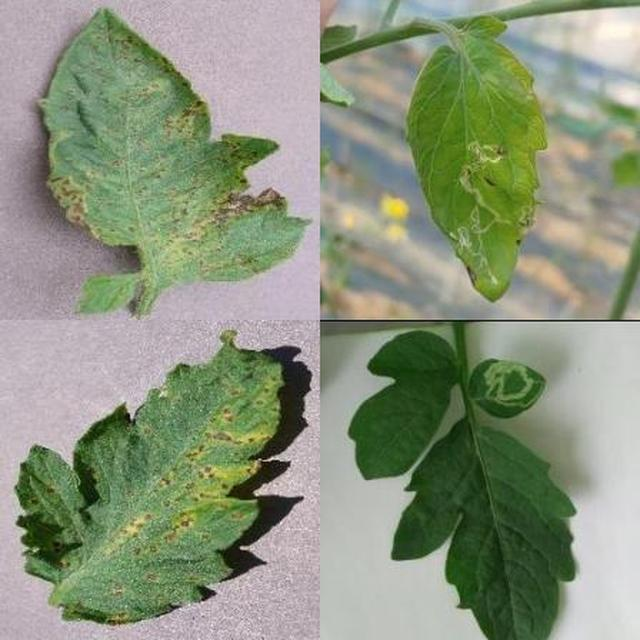Septoria Leaf: (110, 90, 640, 640)
